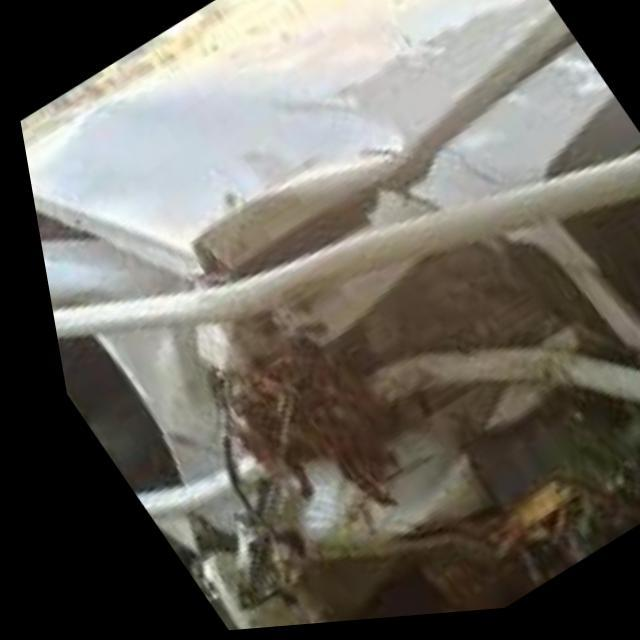no part: (16, 0, 640, 632)
